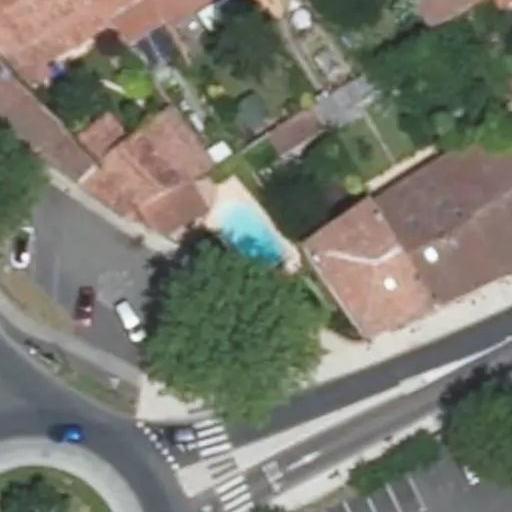pool: (214, 225, 298, 258)
